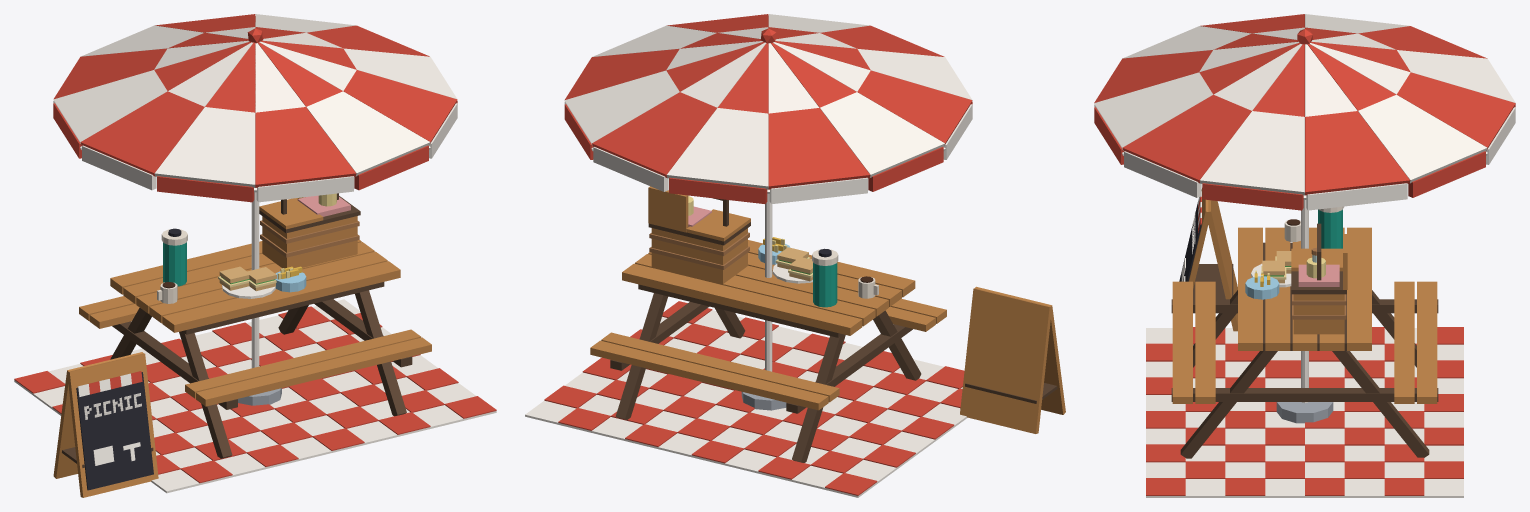
Rendered from CatCafe_Camp_Park_PicnicStation.glb.
3 renders of one model, left to right at view 1: azimuth 30°, elevation 25°; view 2: azimuth 150°, elevation 25°; view 3: azimuth 270°, elevation 25°, orthographic. The views are drawn at different scales.
Visible parts, largest first — view 1: CatCafe_Camp_Park_PicnicStation; view 2: CatCafe_Camp_Park_PicnicStation; view 3: CatCafe_Camp_Park_PicnicStation.
Boxes of the visible parts, <box> form: CatCafe_Camp_Park_PicnicStation: <box>14,14,496,497</box>; CatCafe_Camp_Park_PicnicStation: <box>525,14,1065,497</box>; CatCafe_Camp_Park_PicnicStation: <box>1094,14,1515,497</box>.
Bounding box in the file's own units: 8.66 × 7.48 × 7.42.
Materials: 1 (1 with a texture image).
